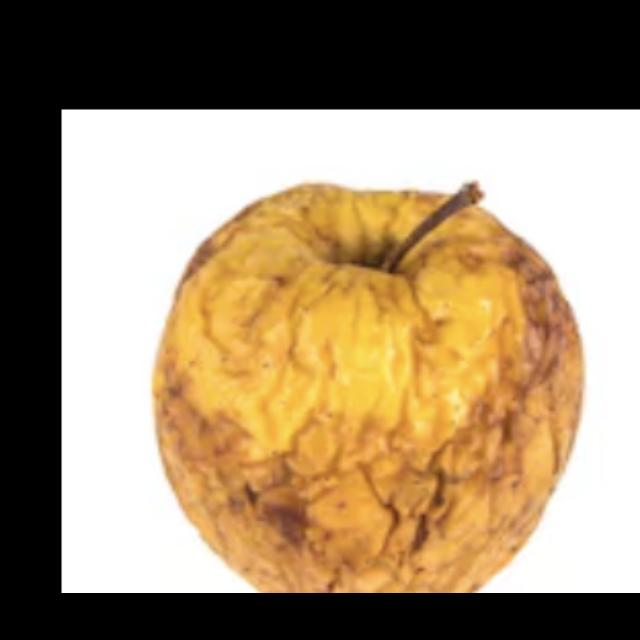Apel Tidak Segar: (144, 182, 592, 592)
